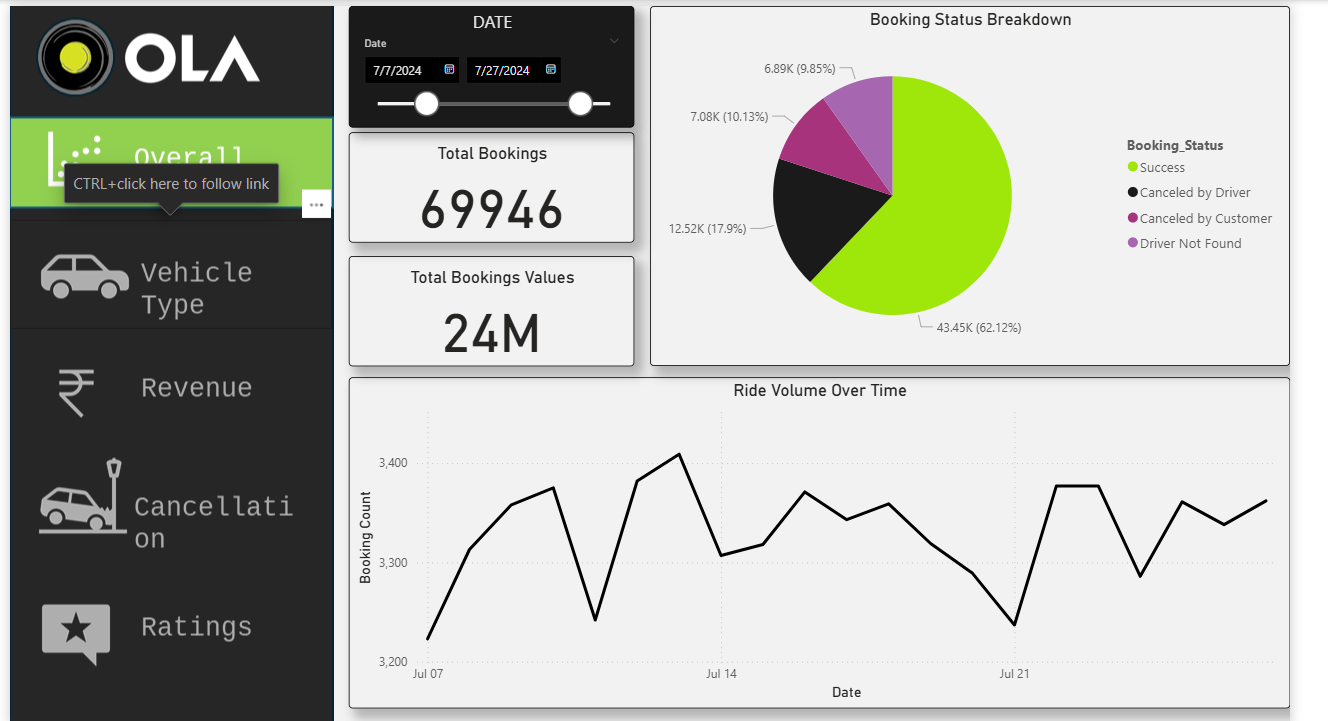

Layout of this report page (visuals, bound fields, positions):
{"tool":"powerbi","page":{"name":"Overall","canvas":[1280,720],"ordinal":0},"visuals":[{"type":"actionButton","box":[0,333.8,322.5,92.5],"z":0},{"type":"actionButton","box":[0,213.8,322.5,108.8],"z":1000},{"type":"actionButton","box":[0,442.5,322.5,106.2],"z":2000},{"type":"actionButton","box":[0,333.8,322.5,92.5],"z":3000},{"type":"actionButton","box":[0,576.2,322.5,93.8],"z":4000},{"type":"actionButton","box":[0,452.5,322.5,106.2],"z":5000},{"type":"lineChart","title":"Ride Volume Over Time","fields":{"Y":["CountNonNull(July.Booking_ID)"],"Category":["July.Date"]},"box":[338.8,371.2,941.2,331.2],"z":6000},{"type":"pieChart","title":"Booking Status Breakdown","fields":{"Category":["July.Booking_Status"],"Y":["CountNonNull(July.Booking_Status)"]},"box":[640,0,640,360],"z":7000},{"type":"slicer","title":"DATE","fields":{"Values":["July.Date"]},"box":[338.6,0,285.7,121.4],"z":8000},{"type":"card","title":"Total Bookings","fields":{"Values":["CountNonNull(July.Booking_ID)"]},"box":[338.6,125.7,285.7,110],"z":9000},{"type":"card","title":"Total Bookings Values","fields":{"Values":["Sum(July.Booking_Value)"]},"box":[338.6,250,285.7,110],"z":10000}]}

Visuals, with their boxes on the page's 1280x720 design canvas (x1, y1, x2, y2). These are canvas units, not pixel positions in the 1328x721 screenshot, which may show the page scaled, cropped or inside an application window:
actionButton: (0, 334, 322, 426)
actionButton: (0, 214, 322, 323)
actionButton: (0, 442, 322, 549)
actionButton: (0, 334, 322, 426)
actionButton: (0, 576, 322, 670)
actionButton: (0, 452, 322, 559)
"Ride Volume Over Time" lineChart: (339, 371, 1280, 702)
"Booking Status Breakdown" pieChart: (640, 0, 1280, 360)
"DATE" slicer: (339, 0, 624, 121)
"Total Bookings" card: (339, 126, 624, 236)
"Total Bookings Values" card: (339, 250, 624, 360)
